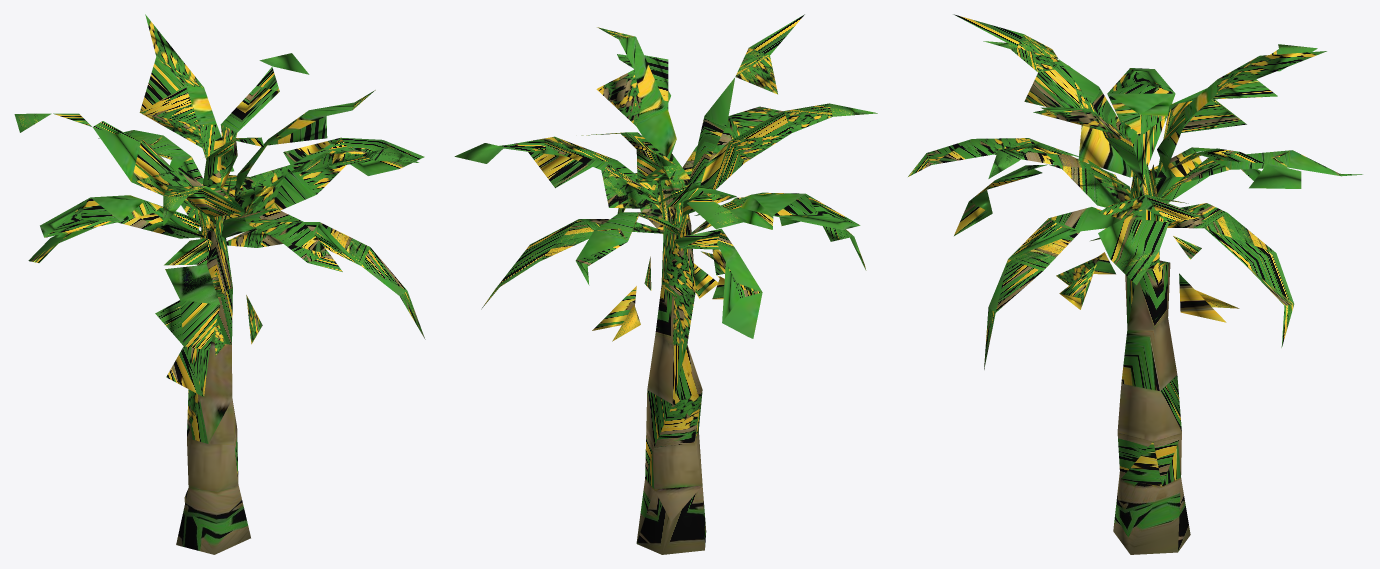
File: banana-far.glb
3 views of the same model, side by side, from view 1: azimuth 30°, elevation 25°; view 2: azimuth 150°, elevation 25°; view 3: azimuth 270°, elevation 25° (orthographic). The views are drawn at different scales.
Parts seen in each view (by area): view 1: geometry_0; view 2: geometry_0; view 3: geometry_0.
Boxes of the visible parts, x1,y1,x2,y2 form: geometry_0: (14,14,425,554); geometry_0: (454,14,877,554); geometry_0: (908,14,1362,554).
Size of the model in its own units: 0.8071 by 0.9419 by 0.7749.
1 material, 1 textured.
